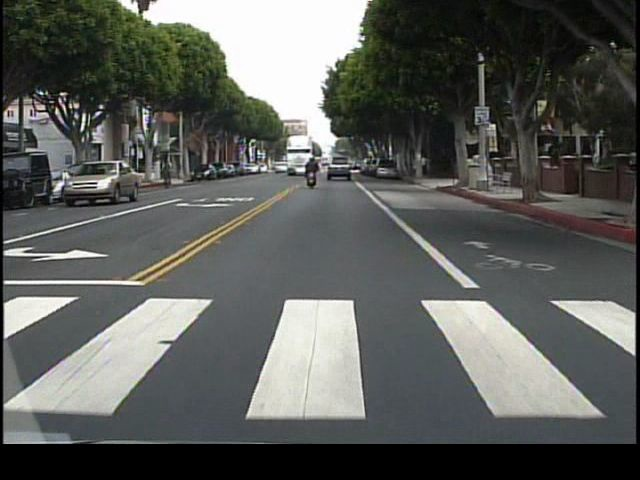person: (305, 155, 323, 196), (161, 158, 179, 186), (426, 155, 434, 185), (422, 156, 427, 179)
